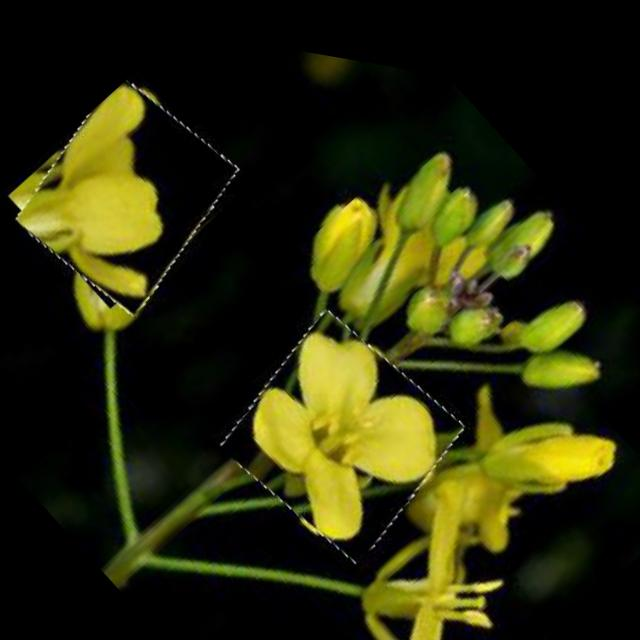Flower: (207, 271, 477, 579), (0, 44, 255, 338)
